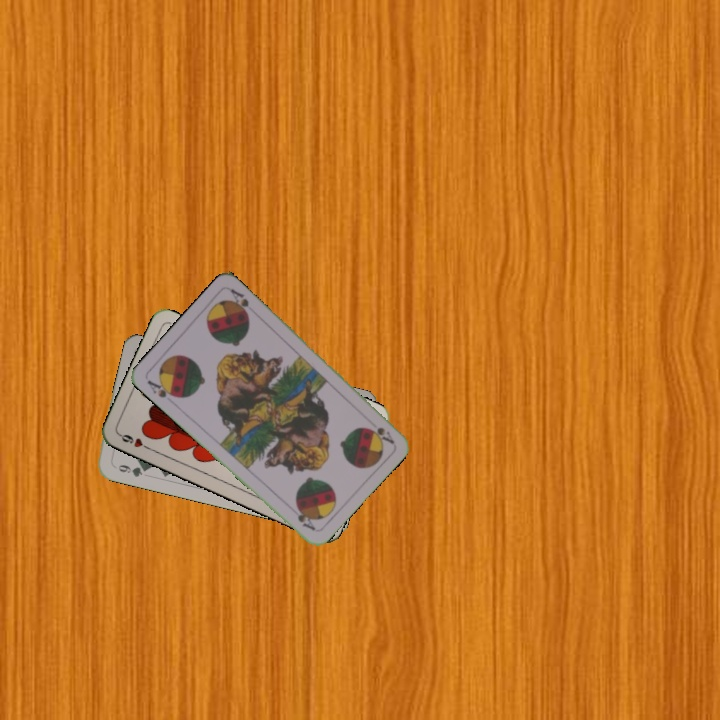G9: (109, 460, 150, 480)
H9: (116, 430, 154, 453)
SA: (143, 375, 181, 401), (373, 423, 397, 447)
